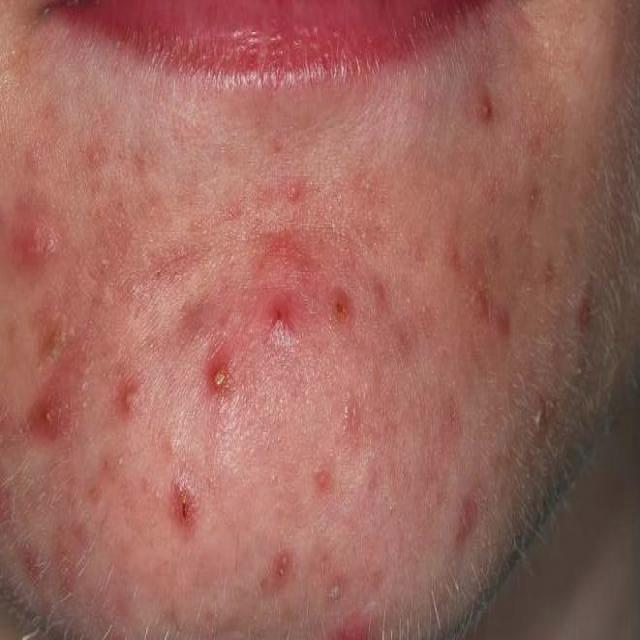Pimples: (21, 200, 60, 262), (29, 394, 78, 434), (38, 316, 76, 366), (474, 280, 509, 333), (168, 469, 204, 517), (264, 538, 290, 596), (576, 262, 594, 332), (264, 299, 292, 344), (323, 284, 352, 326), (120, 374, 145, 422), (532, 392, 556, 434), (323, 568, 345, 610), (312, 454, 332, 490), (478, 78, 492, 128), (208, 365, 230, 392)
